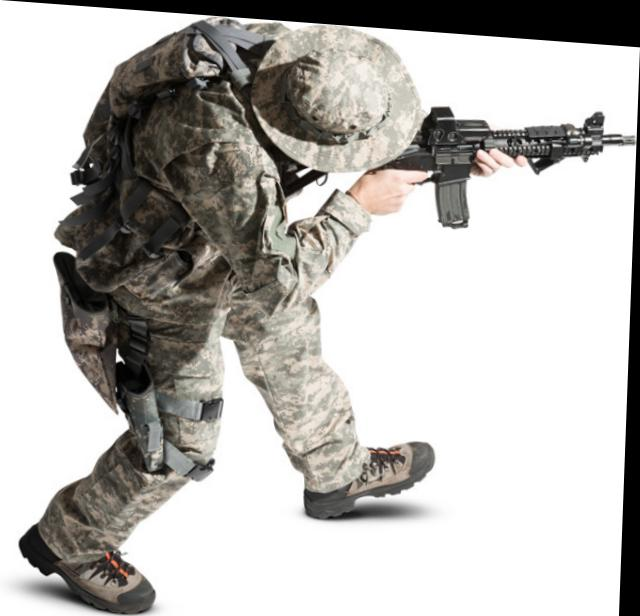other: (68, 7, 427, 586)
